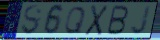6: (41, 4, 65, 38)
B: (105, 5, 130, 36)
J: (129, 5, 152, 36)
Q: (63, 6, 87, 35)
S: (20, 4, 44, 36)
X: (84, 4, 110, 36)
